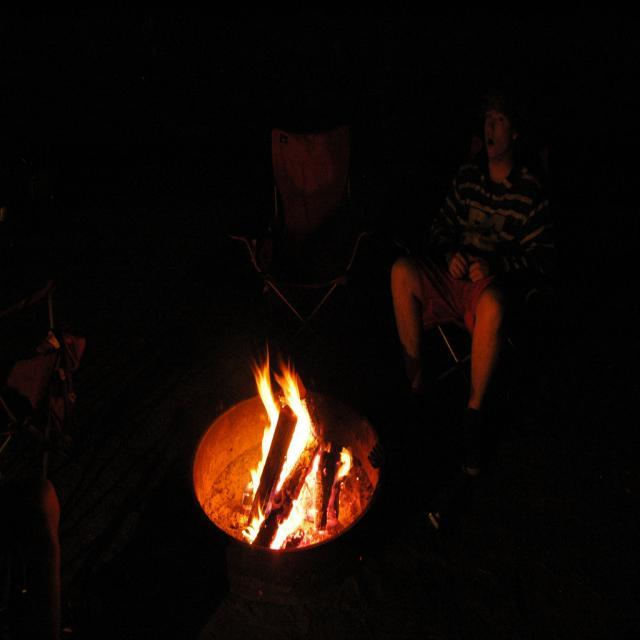Fire: (246, 348, 330, 534)
